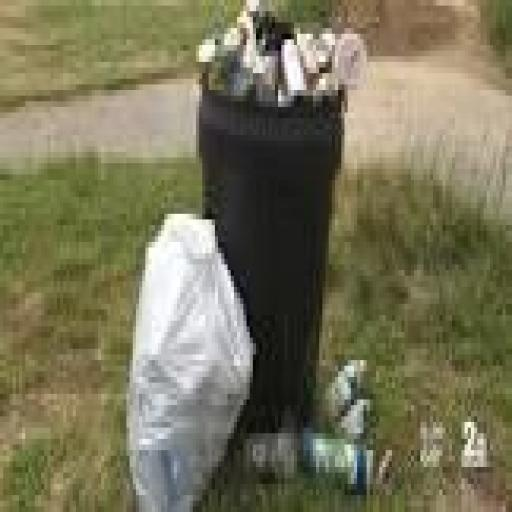poubelle_pleine: (184, 3, 370, 490)
